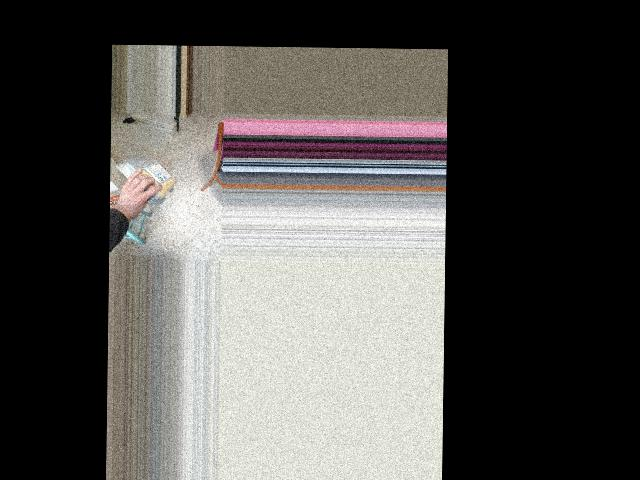cheese: (114, 160, 175, 194)
